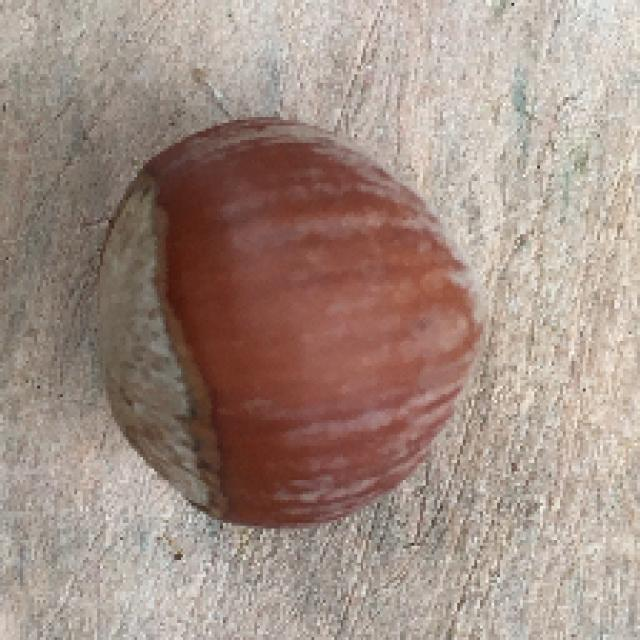qualityHazelnut: (73, 108, 491, 545)
